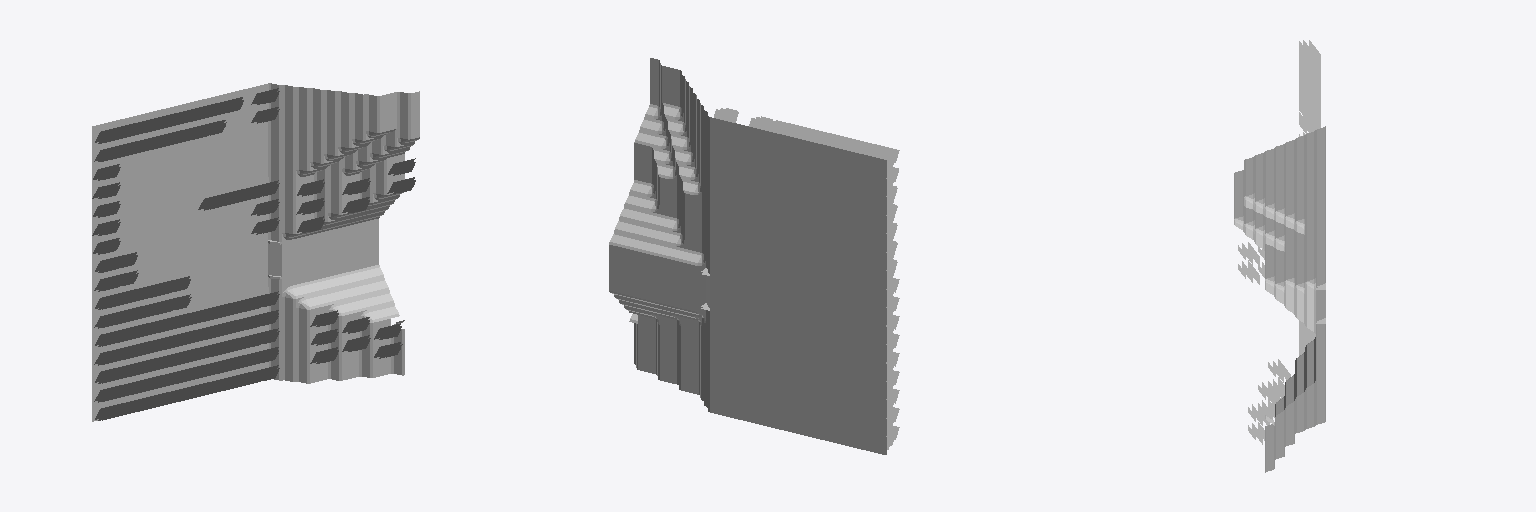
The model's file is Plat_full_08_06.obj.
3 renders of one model, left to right at view 1: azimuth 30°, elevation 25°; view 2: azimuth 150°, elevation 25°; view 3: azimuth 270°, elevation 25°, orthographic.
Visible parts, largest first — view 1: map; view 2: map; view 3: map.
Part boxes in pixels (x1,y1,x2,y2): map: (92, 83, 419, 421); map: (609, 58, 899, 454); map: (1234, 40, 1325, 472).
Size of the model in its own units: 32.5 by 32.12 by 9.